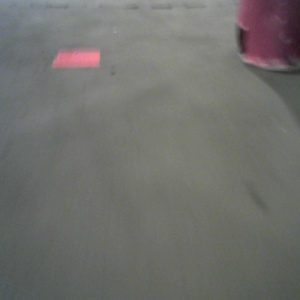middle: (5, 1, 100, 91)
